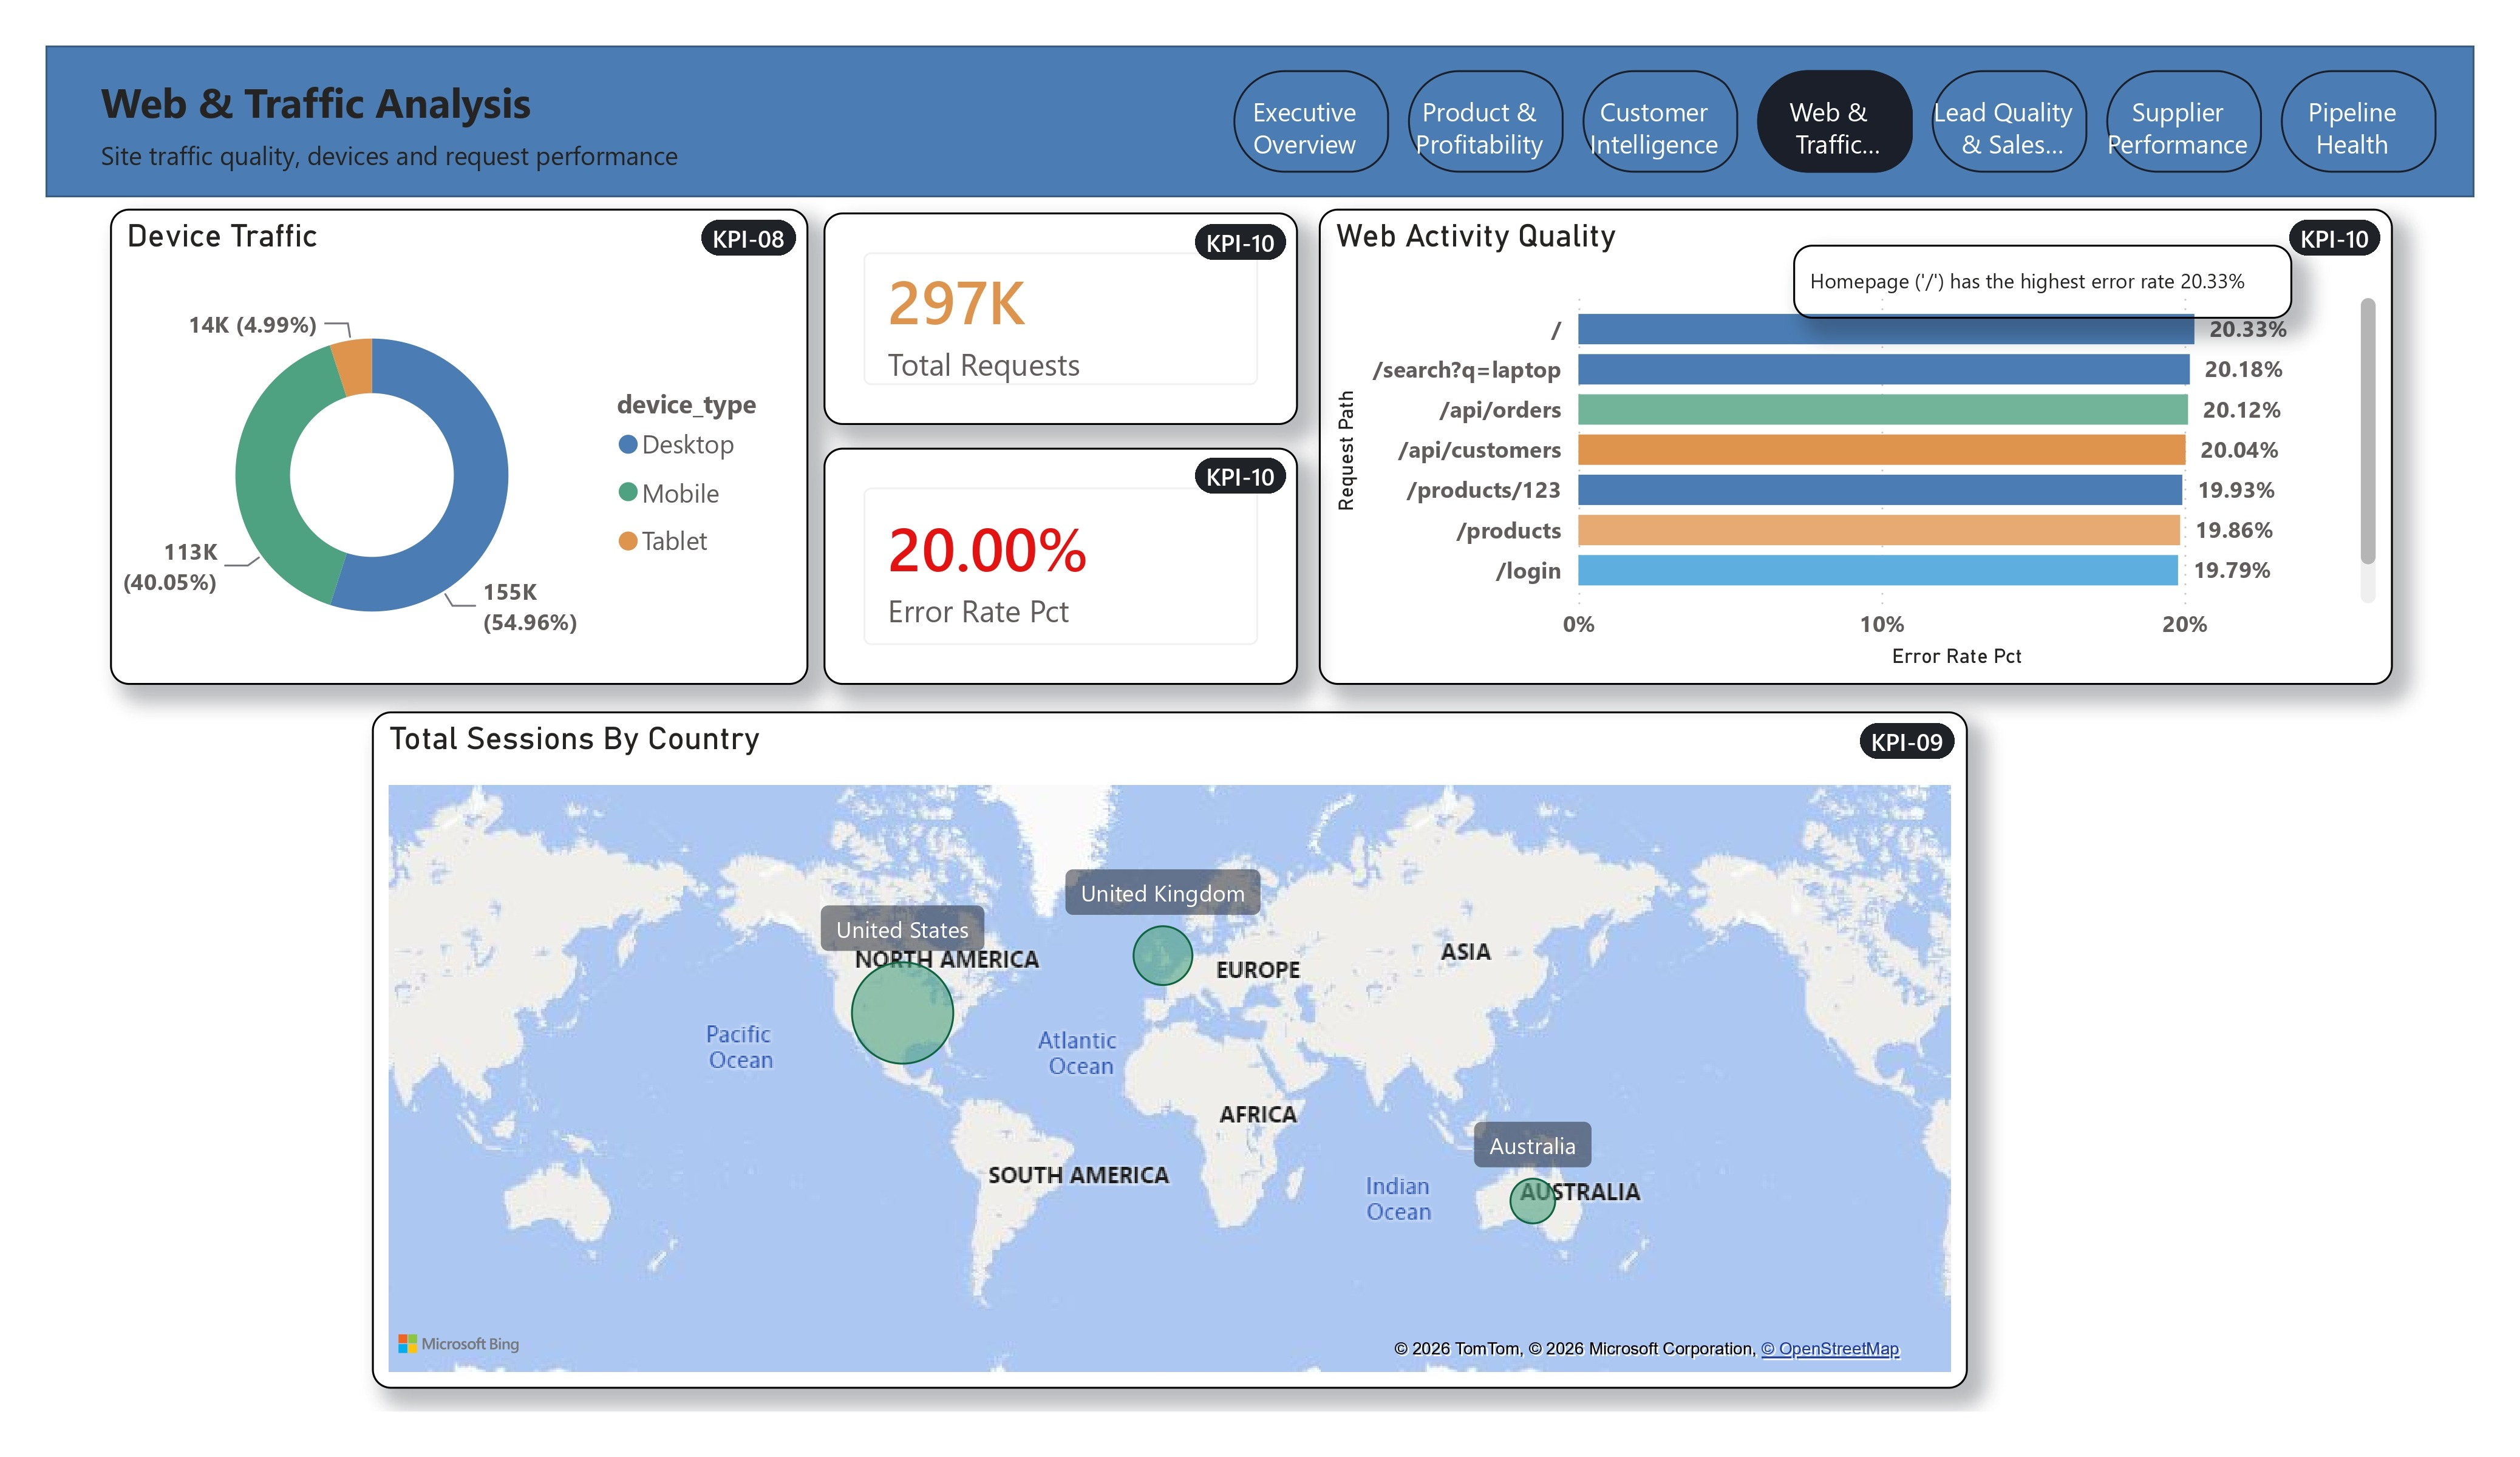

This screenshot's page, from the dashboard's own definition file:
{"tool":"powerbi","page":{"name":"Web & Traffic Analytics","canvas":[1280,720],"ordinal":3},"visuals":[{"type":"donutChart","title":"Device Traffic","fields":{"Category":["marts vw_traffic_by_device.device_type"],"Y":["Sum(marts vw_traffic_by_device.total_sessions)"]},"box":[33.7,86,368.6,251.2],"z":0},{"type":"shape","box":[0,0,1280,80],"z":1000},{"type":"map","title":"Total Sessions By Country","fields":{"Category":["marts vw_geographic_web_traffic.country","marts vw_geographic_web_traffic.city"],"Size":["Sum(marts vw_geographic_web_traffic.total_sessions)"]},"box":[171.8,351.3,841,356.4],"z":2000},{"type":"barChart","title":"Web Activity Quality","fields":{"Category":["marts vw_web_activity_quality.request_path"],"Y":["Sum(marts vw_web_activity_quality.error_rate_pct)"]},"box":[670.9,86,566.3,251.2],"z":3000},{"type":"cardVisual","fields":{"Data":["Sum(marts vw_web_activity_quality.total_requests)"]},"box":[410.5,88.4,250,111.6],"z":4000},{"type":"cardVisual","fields":{"Data":["Average(marts vw_web_activity_quality.error_rate_pct)"]},"box":[410.5,211.6,250,125.6],"z":5000},{"type":"textbox","box":[24.4,10.5,550,43],"z":6000},{"type":"textbox","box":[24.4,44.2,550,36],"z":7000},{"type":"pageNavigator","box":[625.6,12.8,634.9,54.7],"z":8000},{"type":"textbox","box":[920.9,104.7,262.8,39.5],"z":13000}]}

Visuals, with their boxes in screenshot pixels (x1, y1, x2, y2):
"Device Traffic" donutChart: BBox(115, 200, 806, 671)
shape: BBox(52, 39, 2450, 189)
"Total Sessions By Country" map: BBox(374, 697, 1949, 1364)
"Web Activity Quality" barChart: BBox(1309, 200, 2369, 671)
cardVisual - Sum(marts vw_web_activity_quality.total_requests): BBox(821, 205, 1289, 414)
cardVisual - Average(marts vw_web_activity_quality.error_rate_pct): BBox(821, 435, 1289, 671)
textbox: BBox(98, 59, 1128, 140)
textbox: BBox(98, 122, 1128, 189)
pageNavigator: BBox(1224, 63, 2413, 166)
textbox: BBox(1777, 236, 2269, 310)
